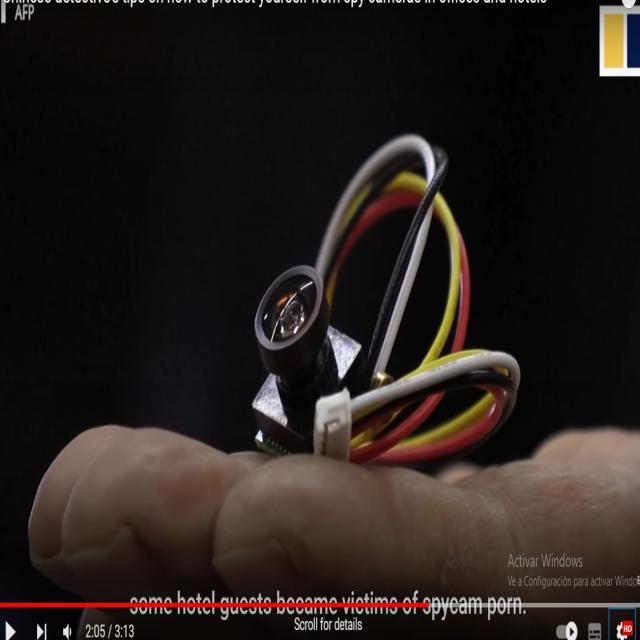hidden camera: (278, 293, 303, 334)
